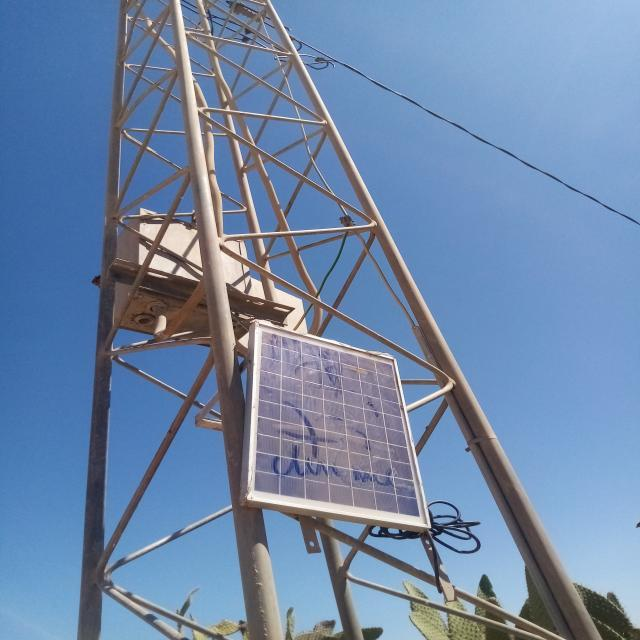faulty: (248, 322, 430, 526)
